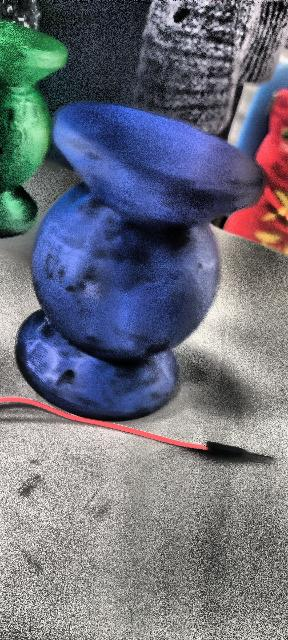blue: (17, 100, 265, 422)
green: (0, 24, 62, 240)
